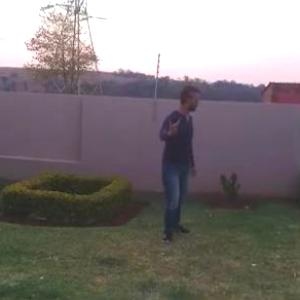takeoff-hand: (158, 115, 184, 143)
